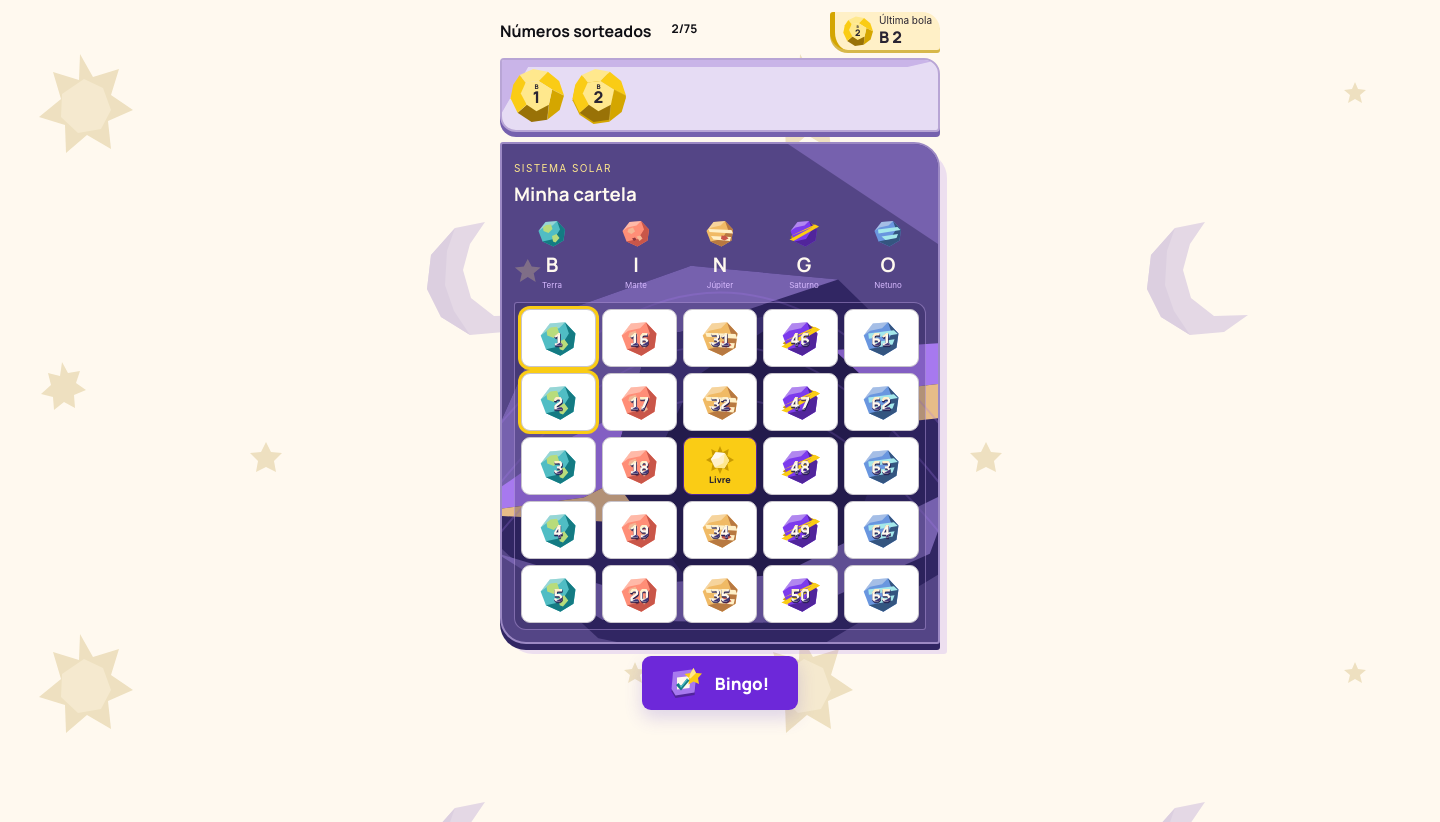
Test case: solar bingo interface › marcação na cartela › desfaz a marca e avisa quando o servidor recusa ou falha
The image size is (1440, 822).
What coordinates should you click on to do the following:
click the button named "B 1"
I would click on:
 (558, 338)
Its box is [521,309,596,367].
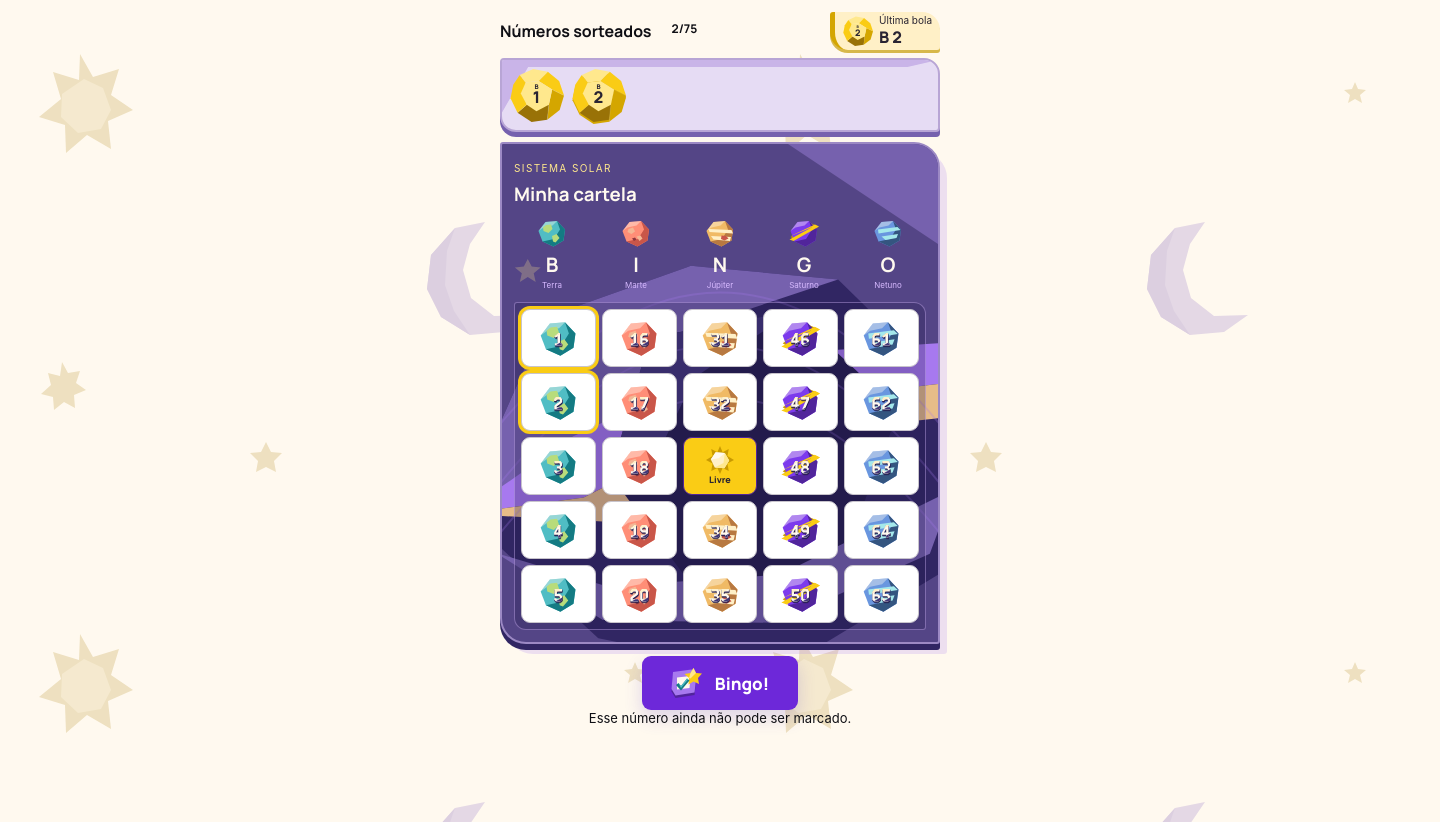
Now the text "Esse número ainda não pode ser marcado." is shown, box [589,710,851,726]
What coordinates should you click on to do the following:
click the button named "B 1"
I would click on:
 (558, 338)
Its box is [521,309,596,367].
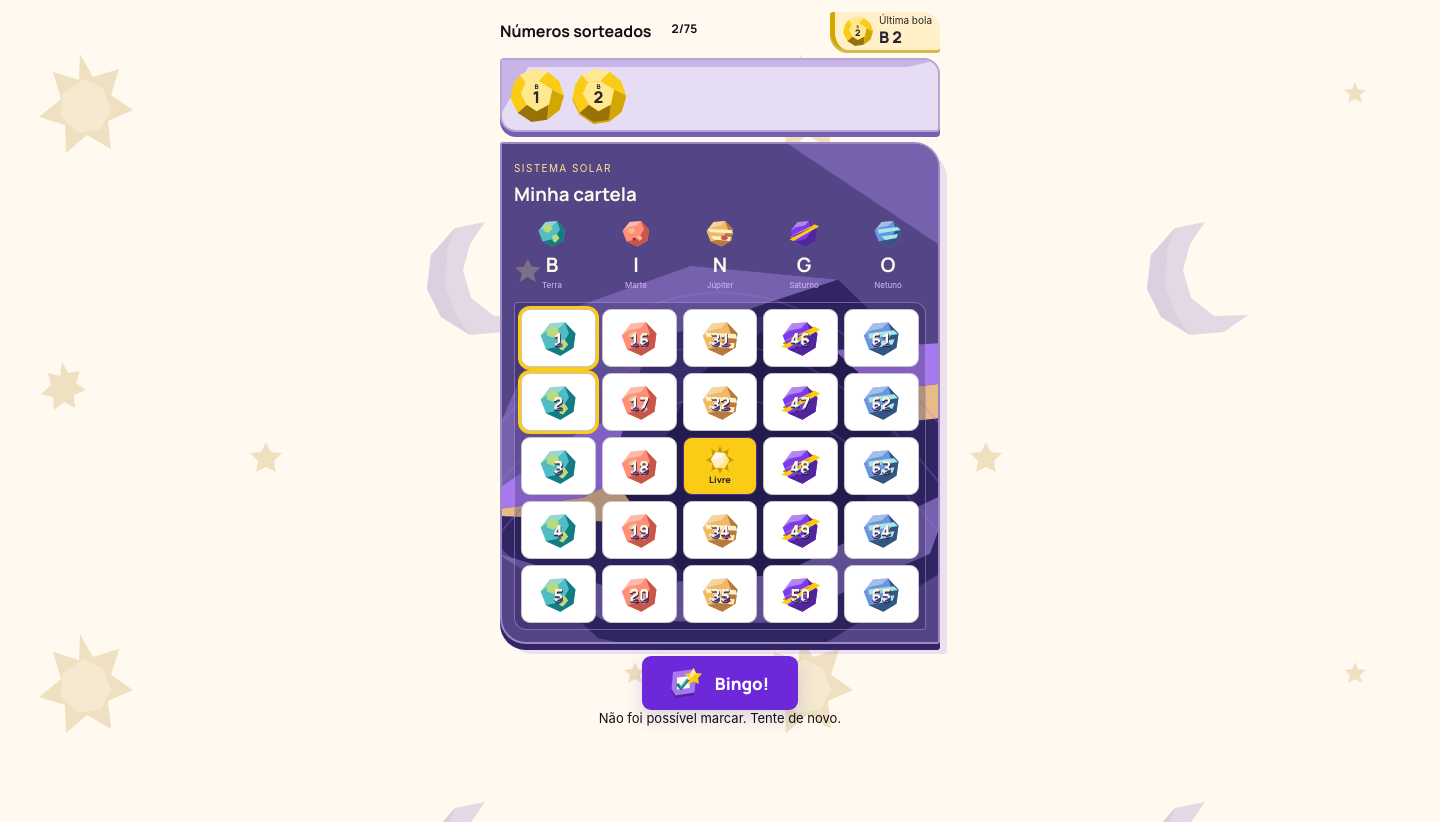
Now the text "Não foi possível marcar. Tente de novo." is shown, box [599,710,841,726]
